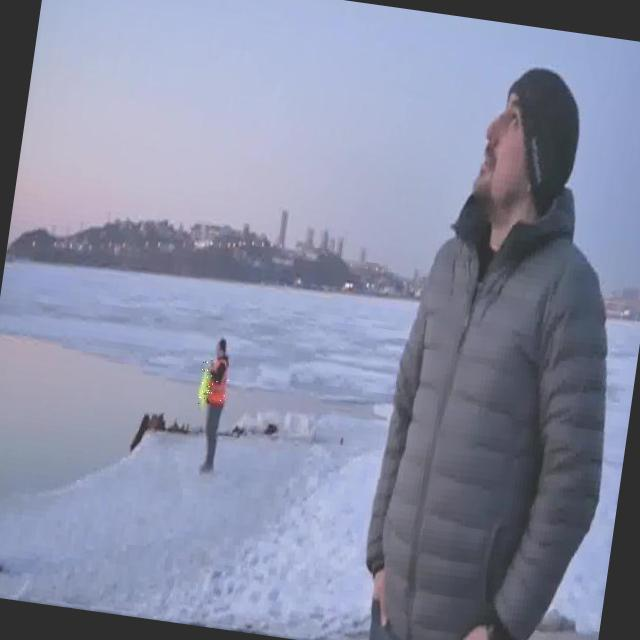vest: (206, 358, 232, 408), (196, 360, 214, 406)
